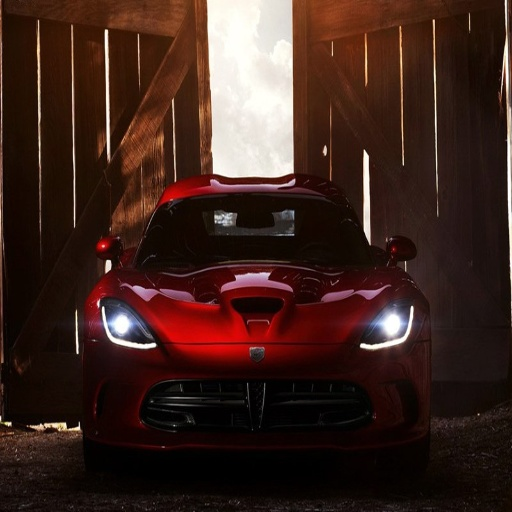back_bumper: (216, 347, 338, 434)
front_bumper: (83, 336, 426, 452)
front_right_light: (98, 300, 152, 347)
trunk: (173, 278, 356, 379)
